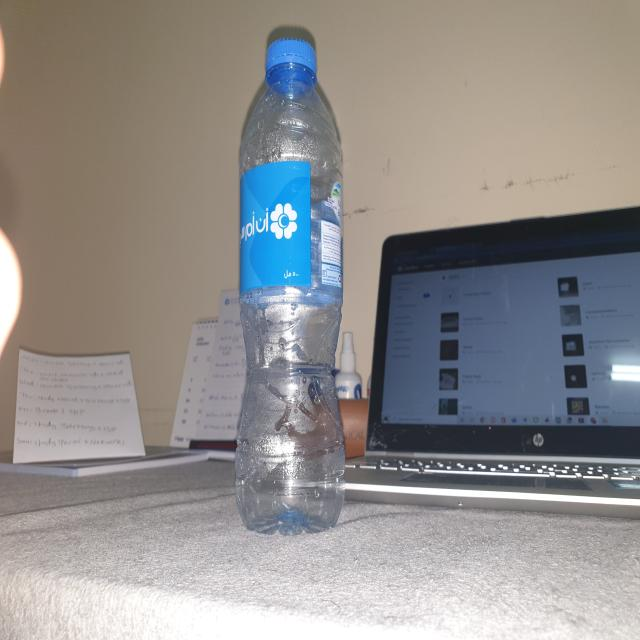bottle: (233, 35, 348, 541)
